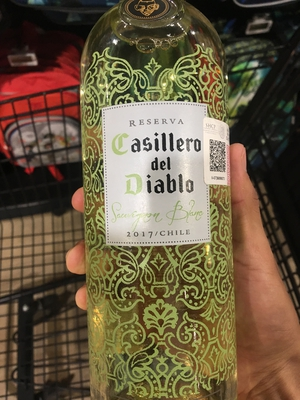casillero del diablo sauvignon blanc: (70, 4, 266, 400)
